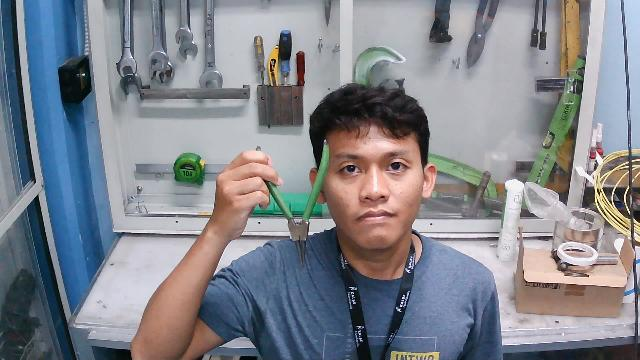tang_cucut_lancip_2: (247, 135, 335, 271)
